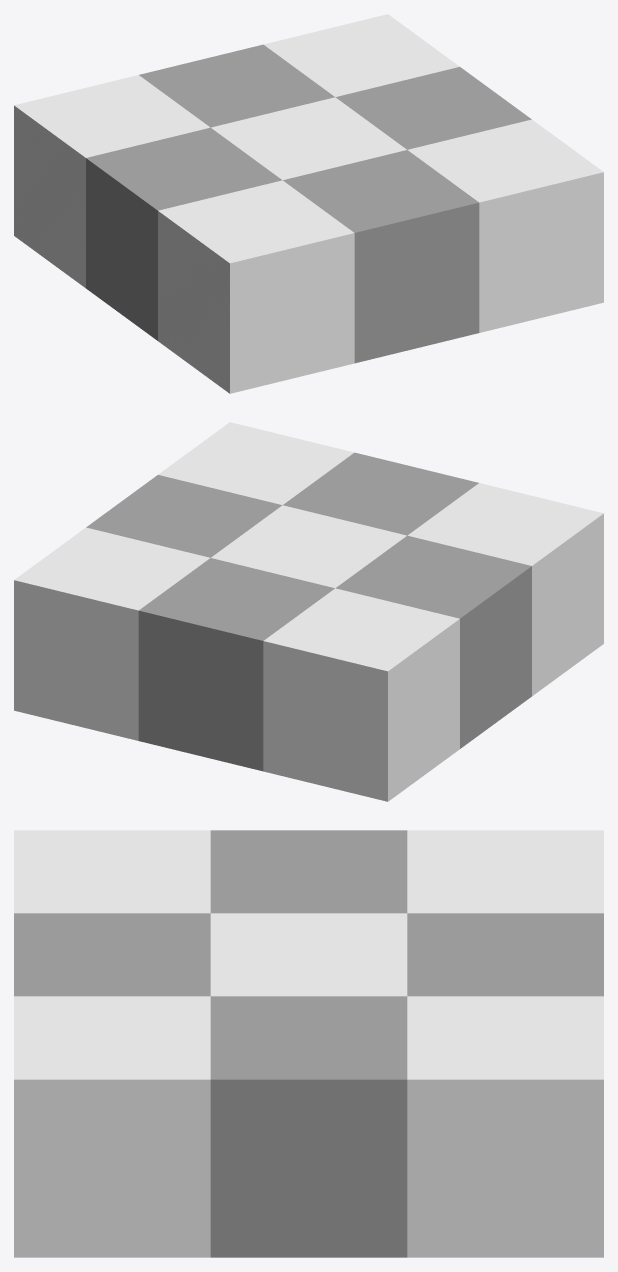
File: floor_0.cube.obj
3 renders of one model, top to bottom at view 1: azimuth 30°, elevation 25°; view 2: azimuth 150°, elevation 25°; view 3: azimuth 270°, elevation 25°, orthographic. The views are drawn at different scales.
Bounding box in the file's own units: 3 × 1 × 3.
1 material, 1 textured.
